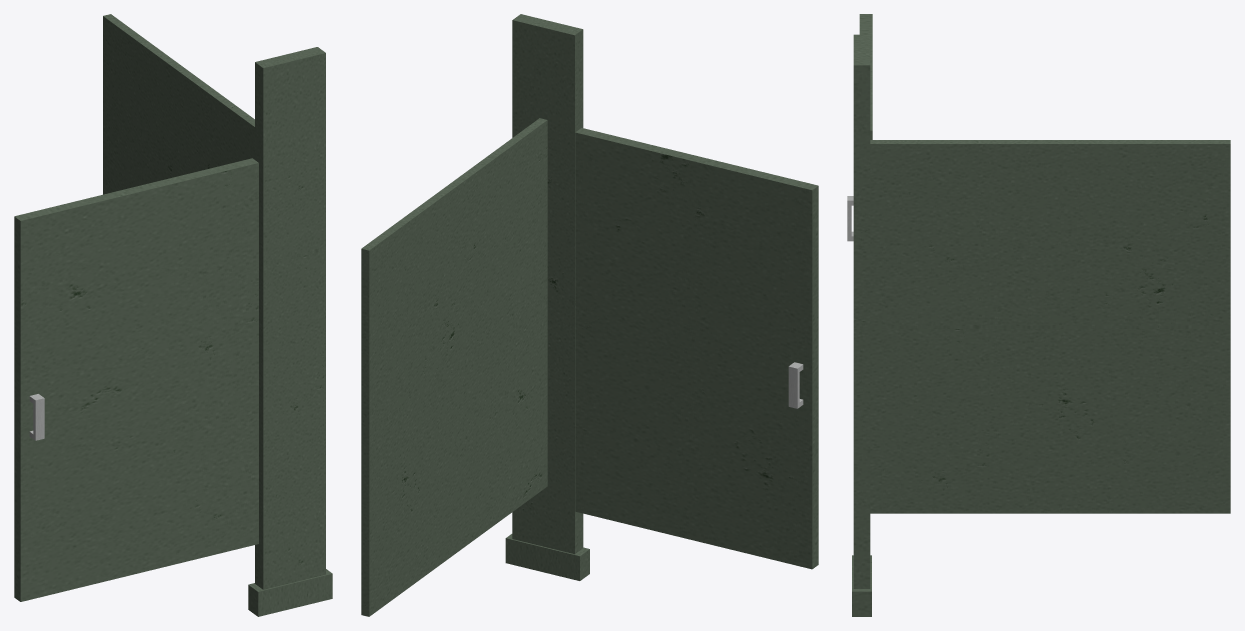
The model's file is BathroomStall.fbx.
3 renders of one model, left to right at view 1: azimuth 30°, elevation 25°; view 2: azimuth 150°, elevation 25°; view 3: azimuth 270°, elevation 25°, orthographic.
Parts seen in each view (by area): view 1: Cube.009, Cube.008; view 2: Cube.009, Cube.008; view 3: Cube.008, Cube.009.
Boxes of the visible parts, x1=… form: Cube.009: x1=14, y1=158, x2=258, y2=601; Cube.008: x1=103, y1=14, x2=332, y2=616; Cube.009: x1=575, y1=128, x2=818, y2=569; Cube.008: x1=361, y1=14, x2=589, y2=616; Cube.008: x1=852, y1=34, x2=1230, y2=616; Cube.009: x1=847, y1=14, x2=872, y2=241.
Size of the model in its own units: 357 by 605 by 383.
